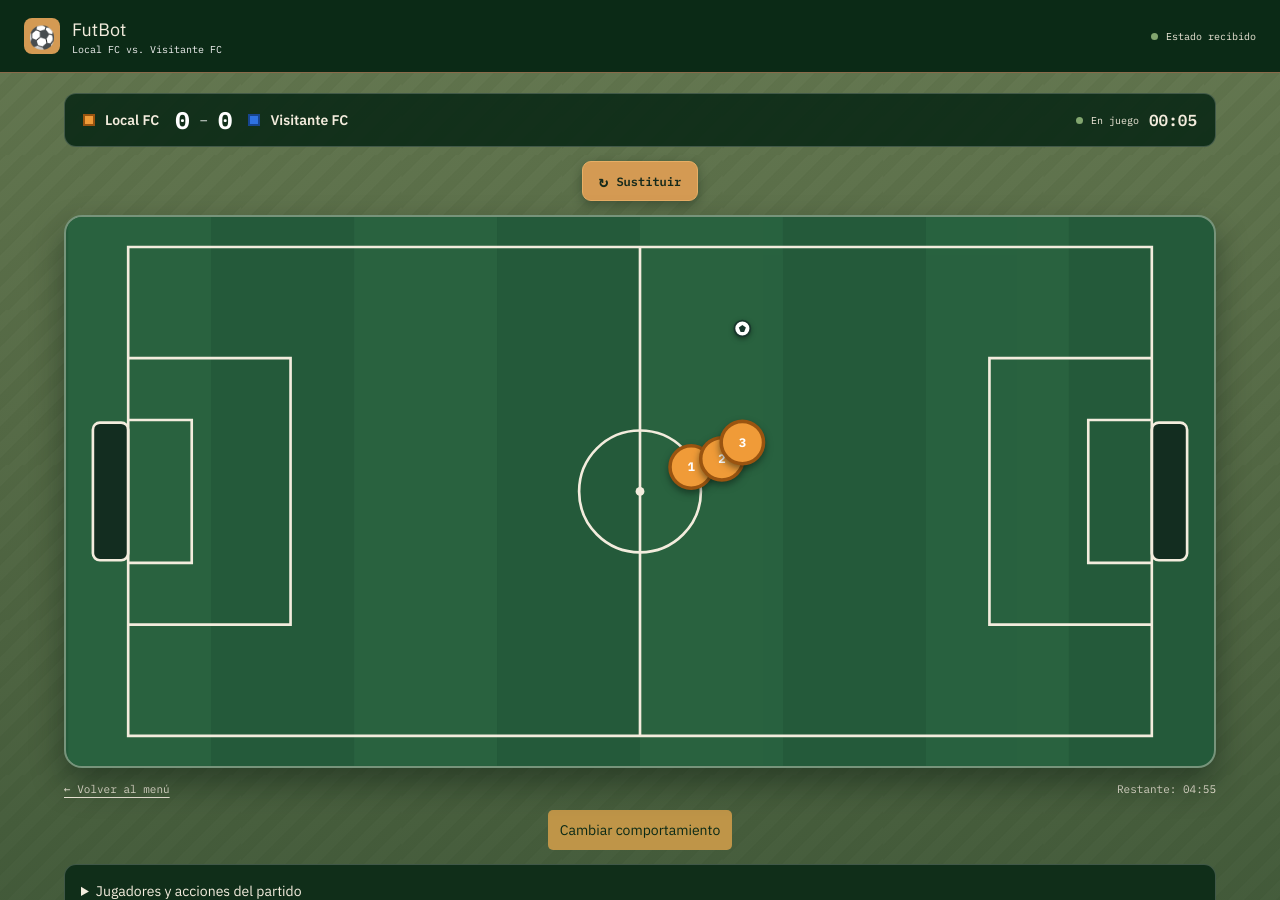
Test case: Estado del partido por WebSocket › cierra el modal y muestra un aviso de éxito al recibir el acuse
This screenshot has width=1280, height=900.
Click the button "Cambiar comportamiento": coordinates (640, 830) [548, 810, 732, 850]
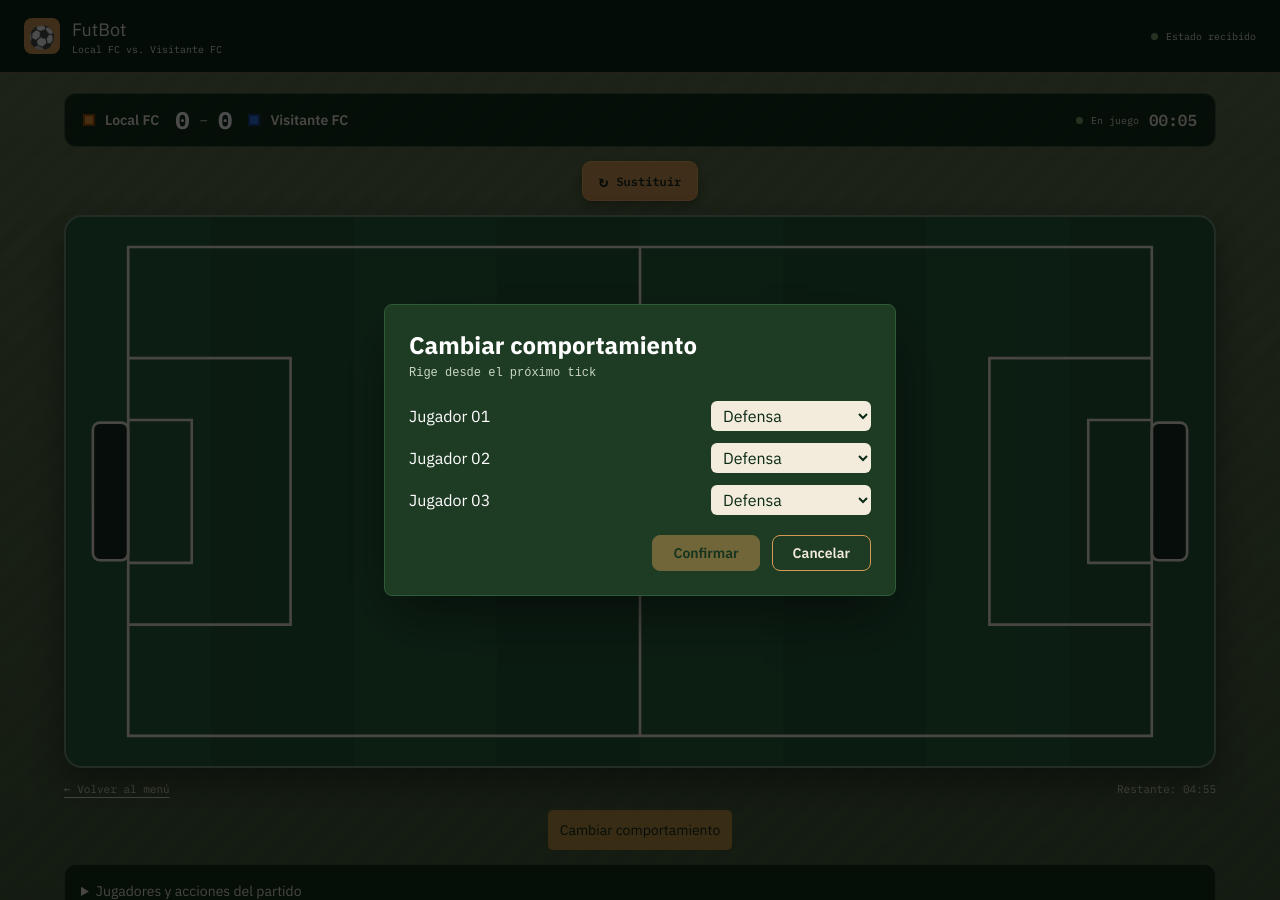
Select "Ataque" in the dropdown named "Comportamiento de Jugador 01": coordinates (791, 416) [711, 401, 871, 431]
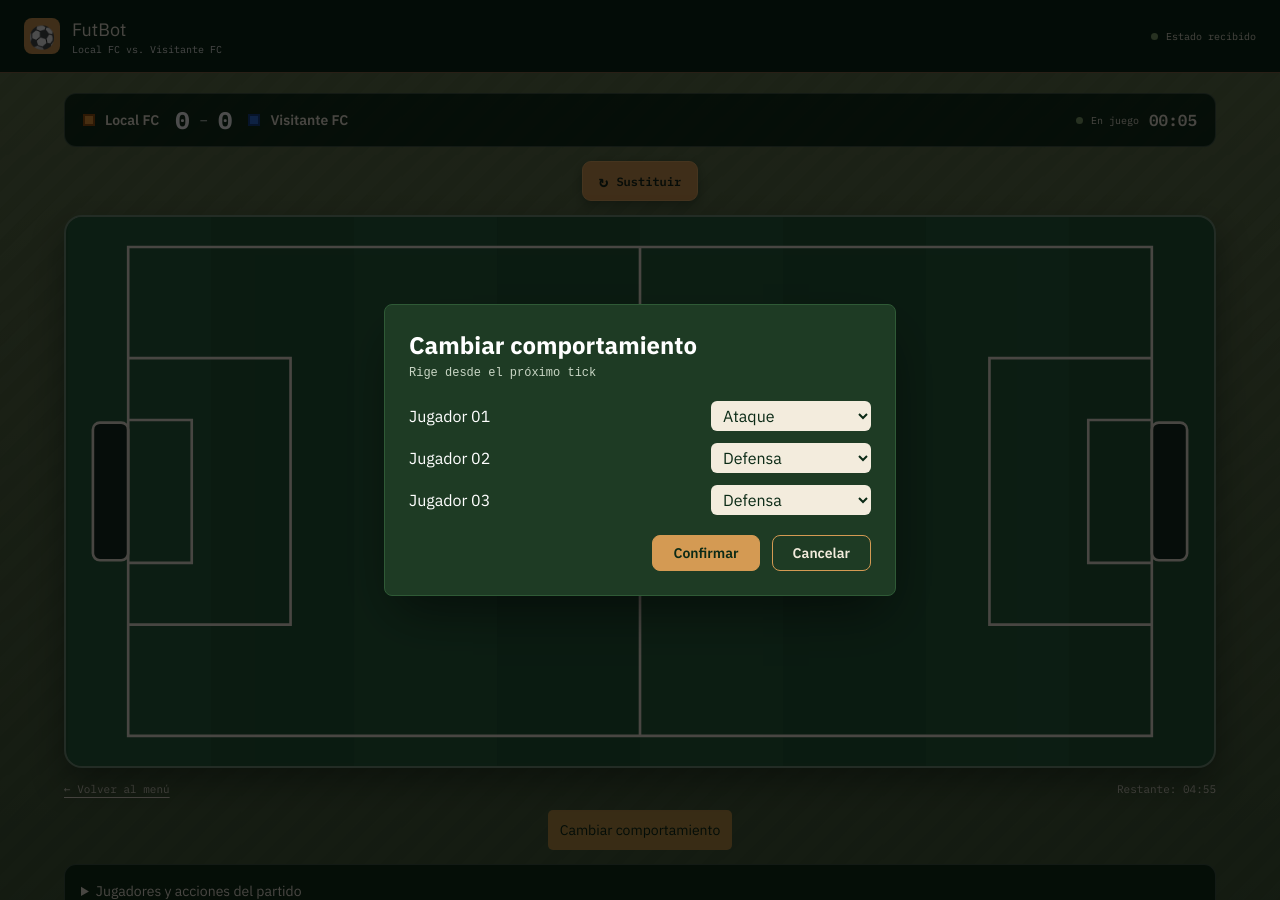
Click the button "Confirmar": coordinates (706, 553) [652, 535, 760, 571]
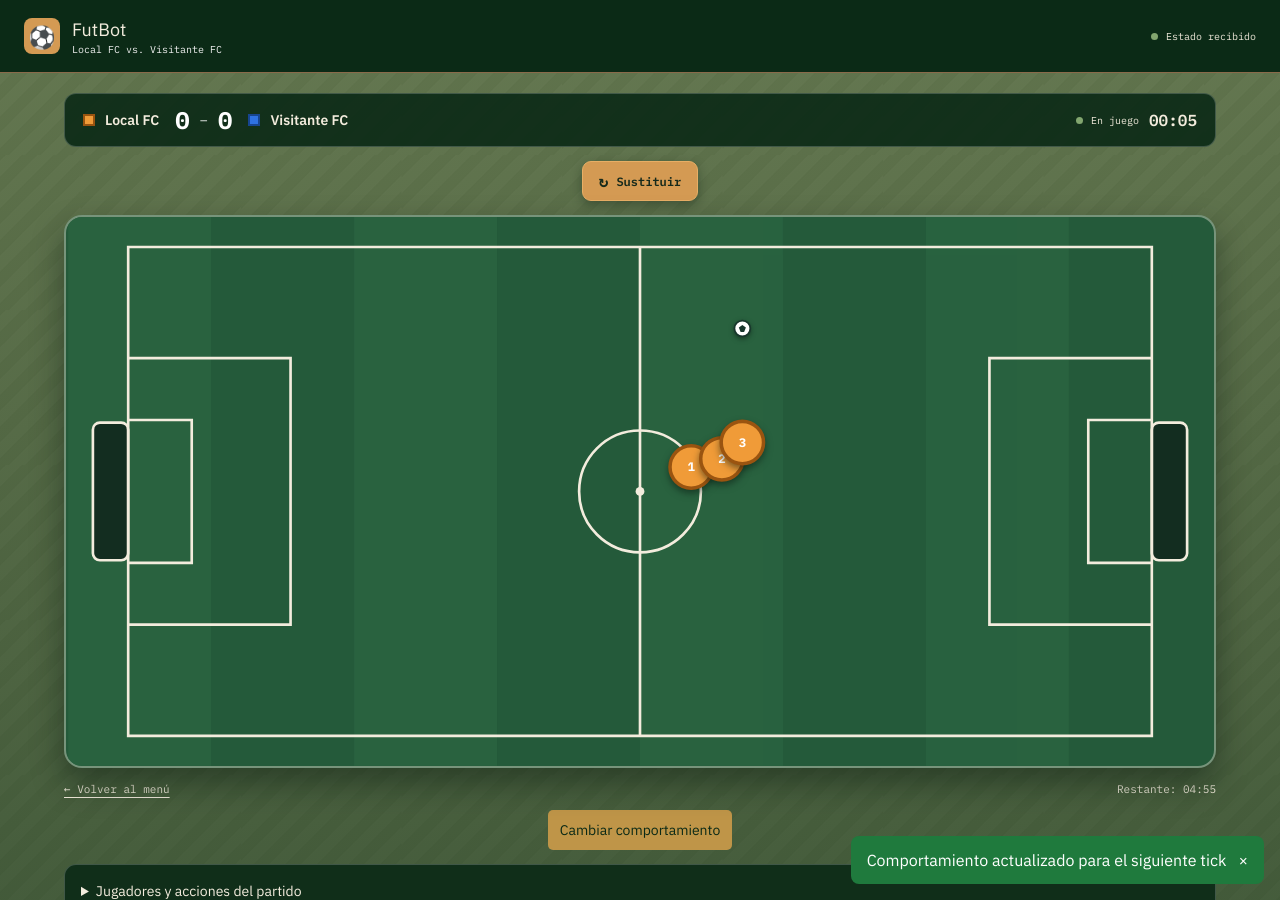
Result: the dialog is gone
Result: the message shows "Comportamiento actualizado" at [867, 850, 1226, 870]
